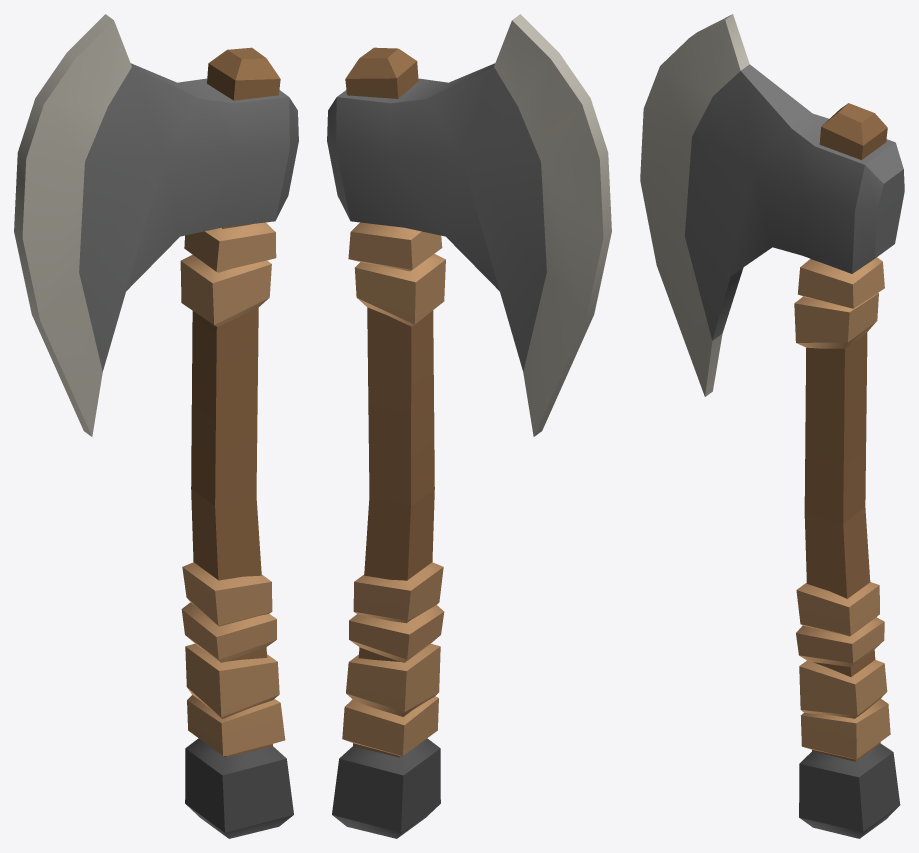
The picture shows the model from 3 angles, left to right: view 1: azimuth 30°, elevation 25°; view 2: azimuth 150°, elevation 25°; view 3: azimuth 330°, elevation 25°; orthographic projection. The views are drawn at different scales.
Parts seen in each view (by area): view 1: Ax_F; view 2: Ax_F; view 3: Ax_F.
Part boxes in pixels (bbox=[...]): Ax_F: bbox=[14, 14, 298, 838]; Ax_F: bbox=[327, 14, 611, 838]; Ax_F: bbox=[640, 14, 904, 838].
Size of the model in its own units: 37.87 by 113 by 10.89.
